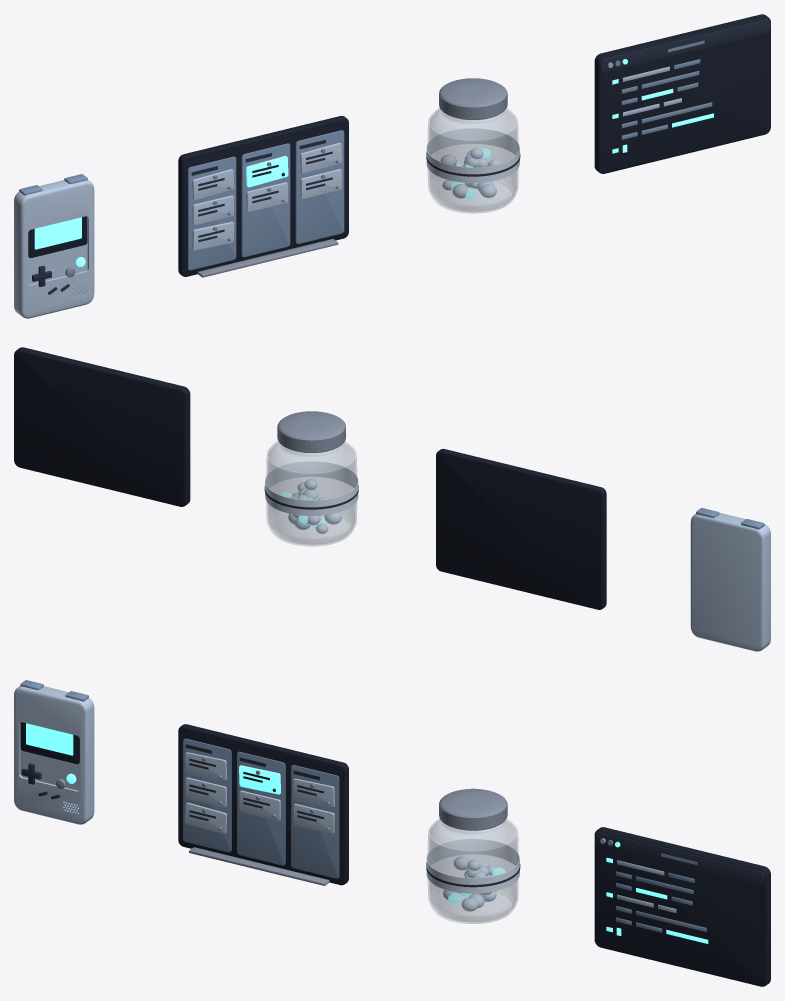
File: projects.glb
3 views of the same model, one above another, from view 1: azimuth 30°, elevation 25°; view 2: azimuth 150°, elevation 25°; view 3: azimuth 330°, elevation 25° (orthographic).
Parts seen in each view (by area): view 1: kanban, terminal, jar, handheld; view 2: terminal, kanban, jar, handheld; view 3: kanban, terminal, jar, handheld.
Boxes of the visible parts, left/top/right/bottom form: kanban: left=178, top=115, right=348, bottom=277; terminal: left=594, top=14, right=770, bottom=173; jar: left=426, top=78, right=520, bottom=213; handheld: left=14, top=174, right=94, bottom=318; terminal: left=14, top=347, right=190, bottom=506; kanban: left=436, top=448, right=606, bottom=609; jar: left=264, top=411, right=358, bottom=546; handheld: left=690, top=508, right=770, bottom=651; kanban: left=178, top=724, right=348, bottom=885; terminal: left=594, top=827, right=770, bottom=986; jar: left=426, top=788, right=520, bottom=923; handheld: left=14, top=680, right=94, bottom=824.
Size of the model in its own units: 14.35 by 2.29 by 1.56.
